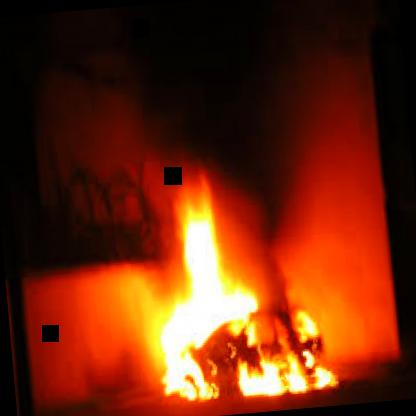fire: (120, 134, 350, 415)
